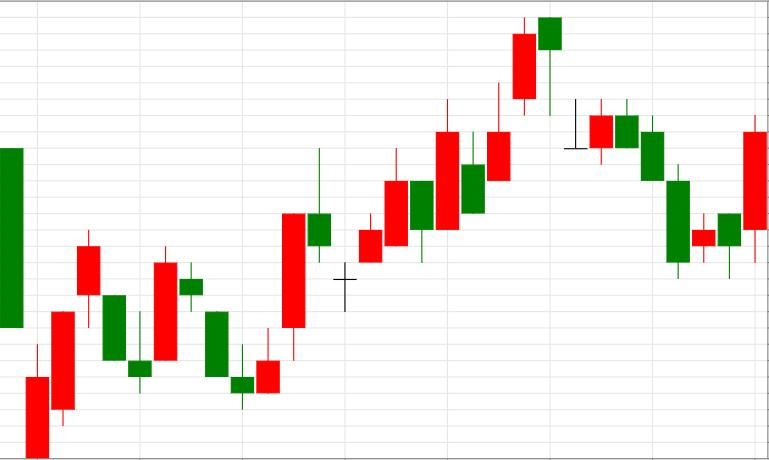hanging_man_fall: (360, 17, 562, 262)
